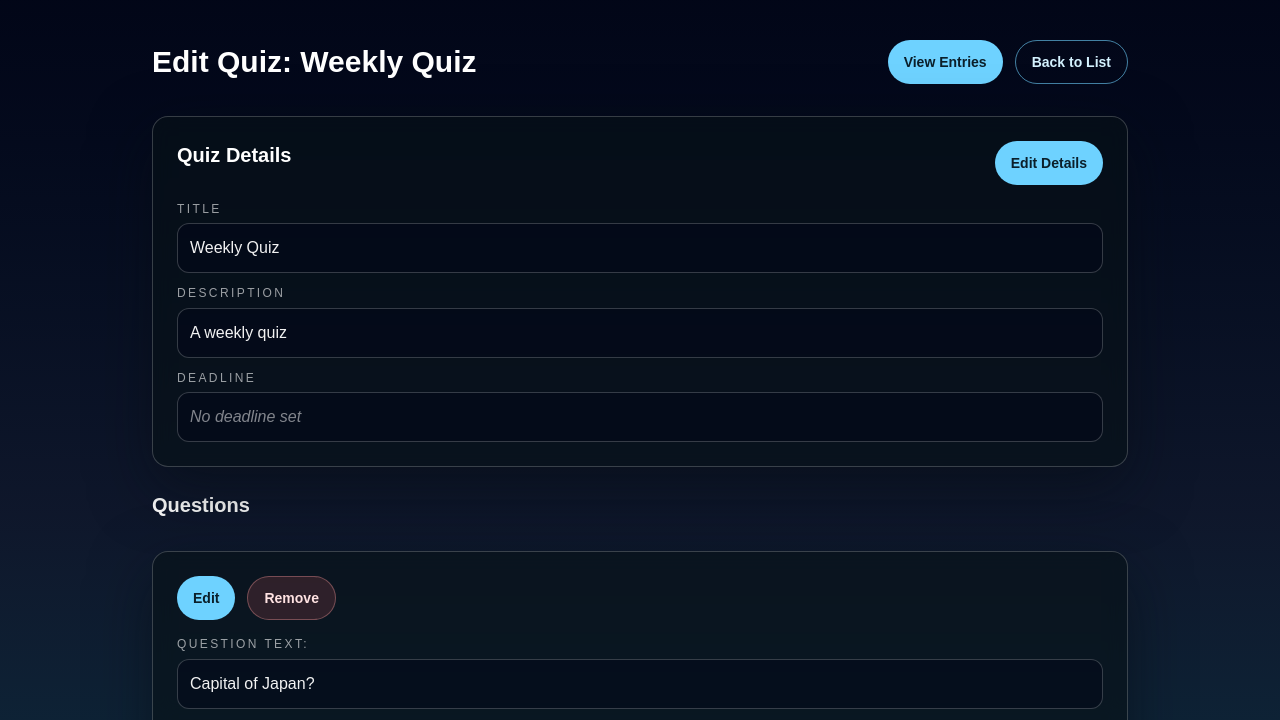
Scenario: EditQuizPage › cancels quiz details editing when Cancel is clicked
Click the button "Edit Details" at (1049, 163), box [995,141,1103,185]
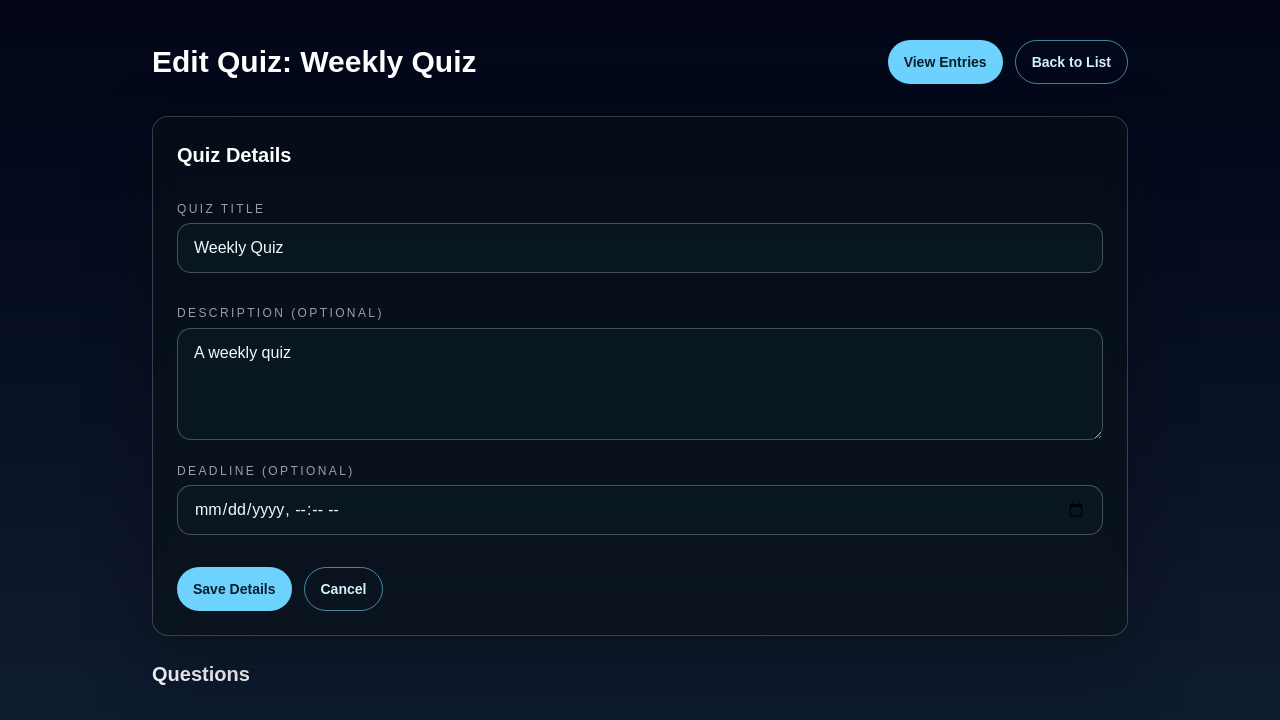
Check: the button "Save Details" is shown, box [177,567,292,611]
Click the button "Cancel" at (343, 589), box [304,567,383,611]
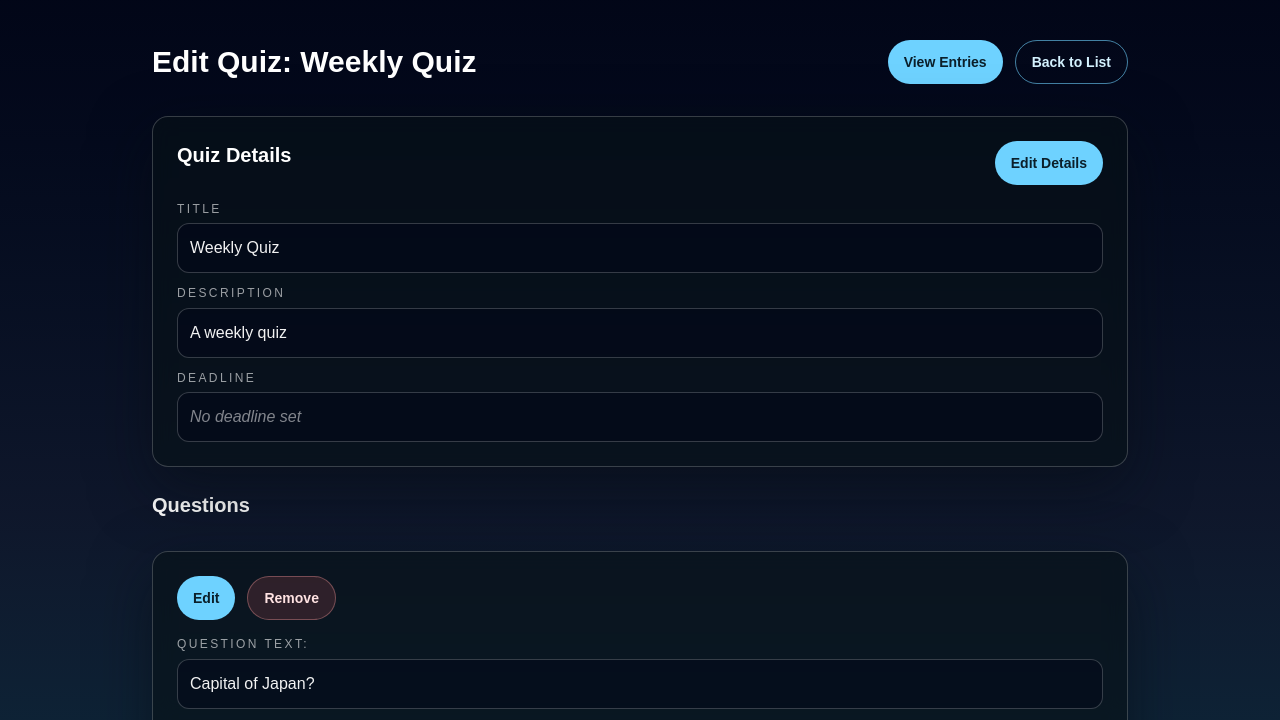
Check: the button "Save Details" is gone
Check: the button "Edit Details" is shown, box [995,141,1103,185]
